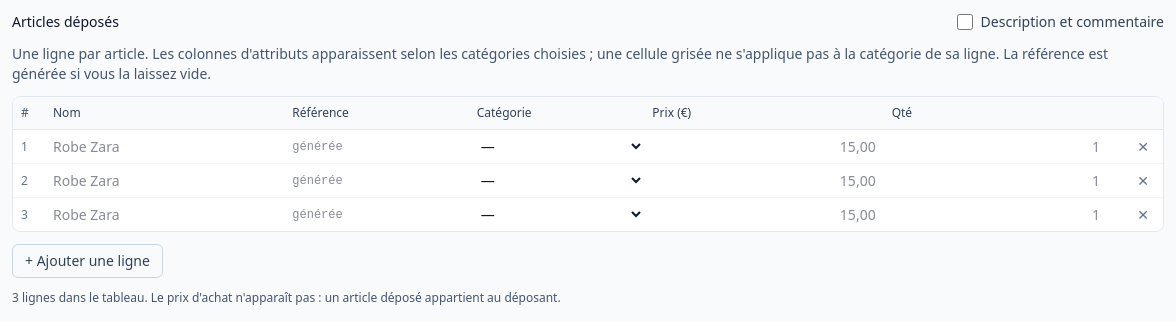
Test: ContractLines › garde toujours au moins une ligne
Click the button named "Retirer l'article 3".
click(1143, 214)  # box [1131, 202, 1155, 226]
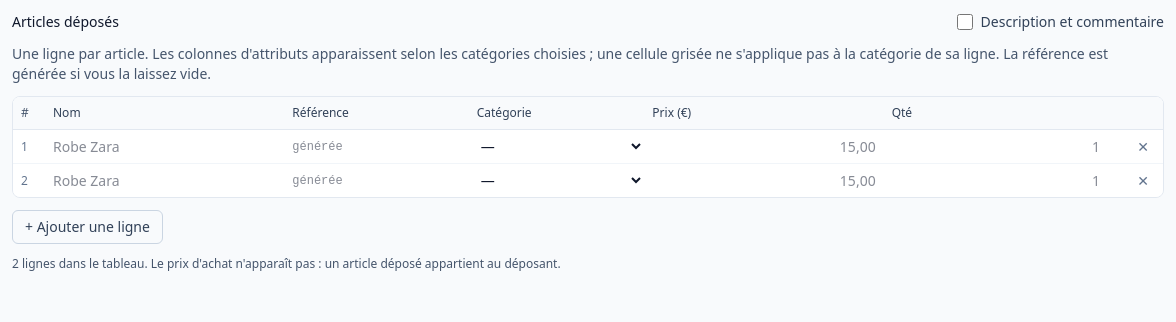
Click the button named "Retirer l'article 2".
click(1143, 180)  # box [1131, 168, 1155, 192]
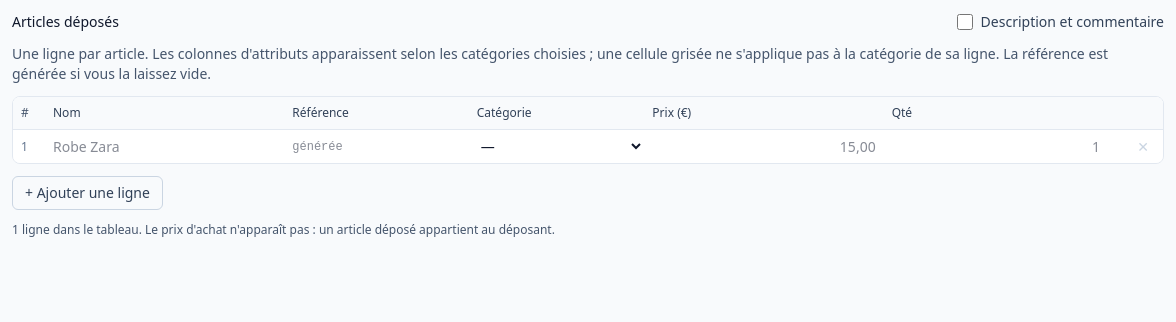
Result: the button named "Retirer l'article 1" is disabled at [1131, 134, 1155, 158]
